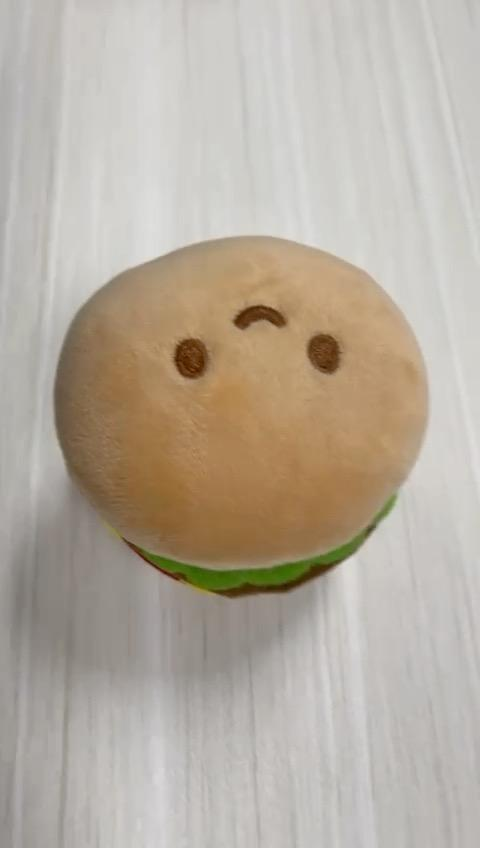hamburger: (53, 234, 430, 597)
